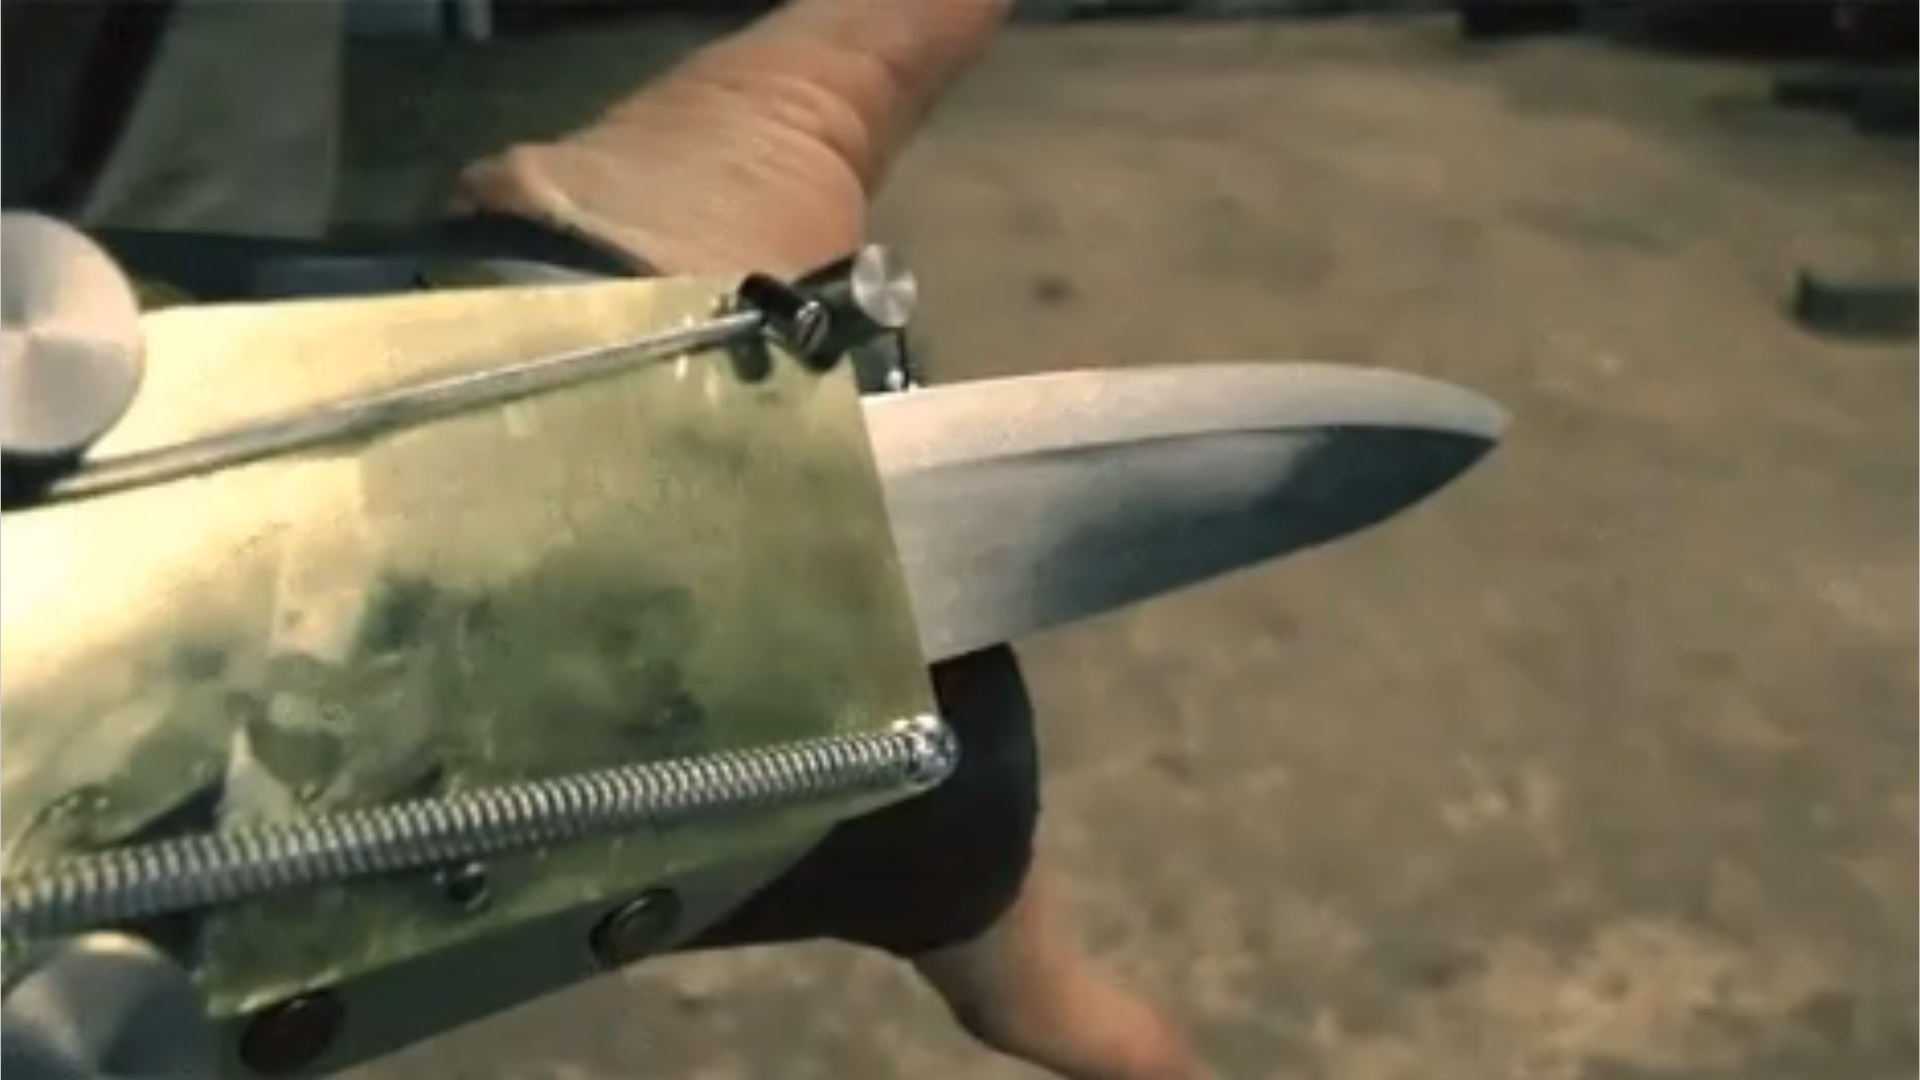cortante: (851, 365, 1516, 671)
